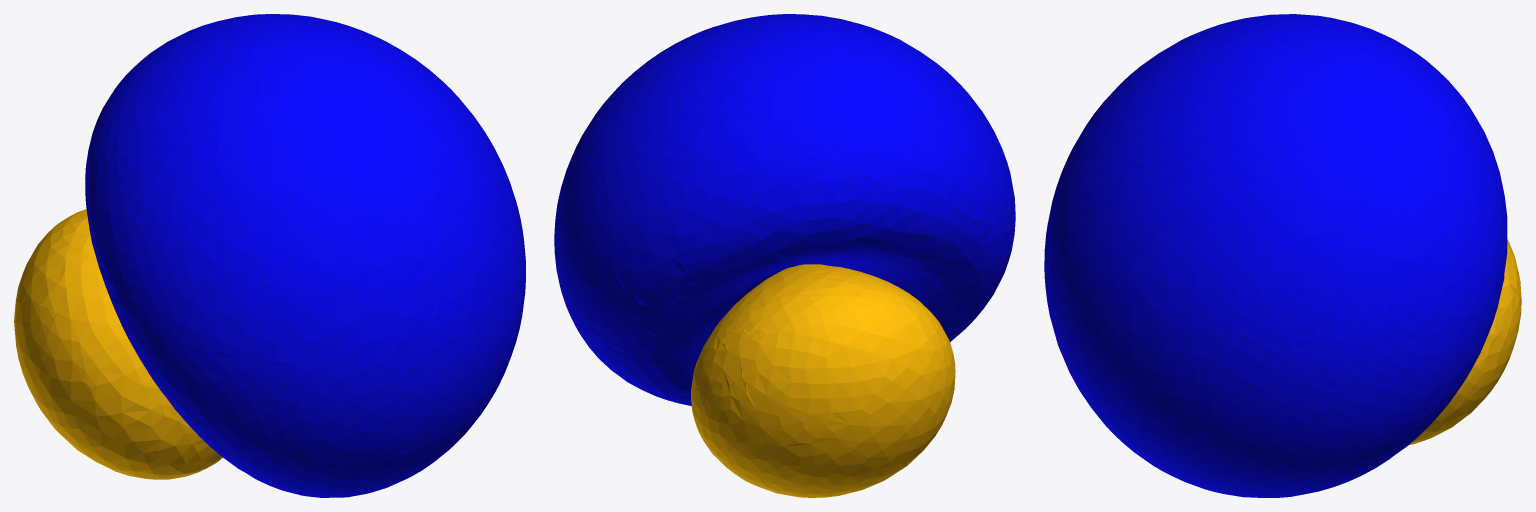
The picture shows the model from 3 angles, left to right: view 1: azimuth 30°, elevation 25°; view 2: azimuth 150°, elevation 25°; view 3: azimuth 270°, elevation 25°; orthographic projection. The views are drawn at different scales.
Size of the model in its own units: 11.83 by 11.83 by 11.83.
